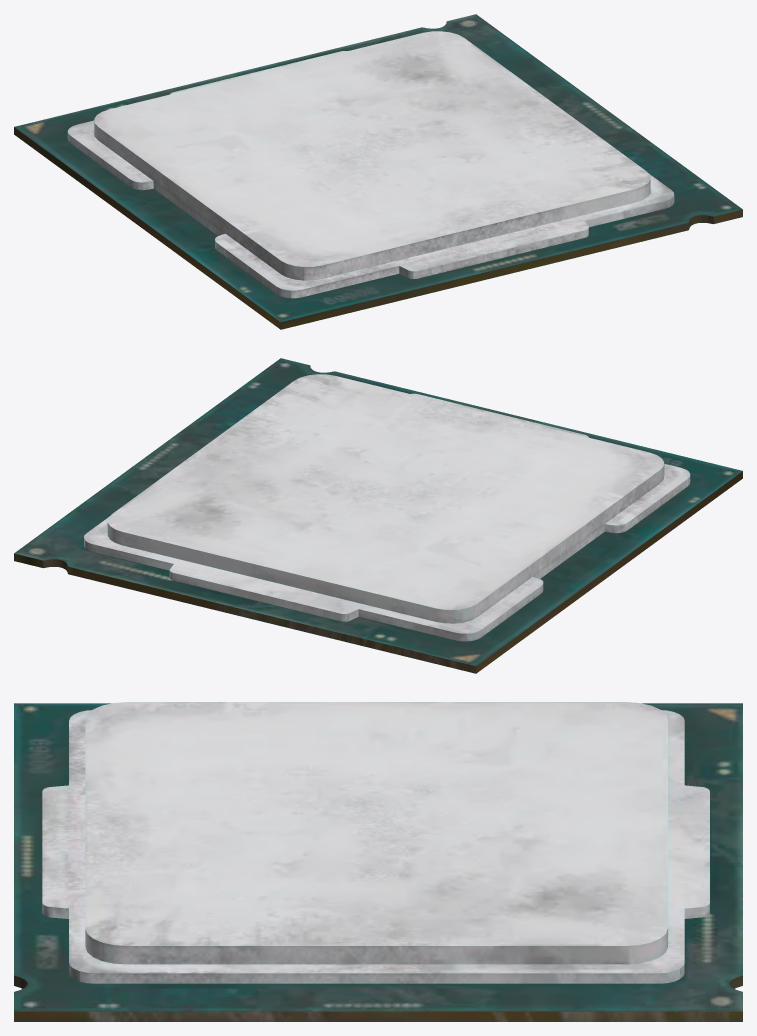
File: cpu-intel-simples.glb
The picture shows the model from 3 angles, top to bottom: view 1: azimuth 30°, elevation 25°; view 2: azimuth 150°, elevation 25°; view 3: azimuth 270°, elevation 25°; orthographic projection. The views are drawn at different scales.
Visible parts, largest first — view 1: Intel CPU - TT_Intel CPU_0; view 2: Intel CPU - TT_Intel CPU_0; view 3: Intel CPU - TT_Intel CPU_0.
Part boxes in pixels (left/top/right/bottom): Intel CPU - TT_Intel CPU_0: left=14, top=14, right=742, bottom=329; Intel CPU - TT_Intel CPU_0: left=14, top=358, right=742, bottom=673; Intel CPU - TT_Intel CPU_0: left=14, top=702, right=742, bottom=1021.
Size of the model in its own units: 0.0376 by 0.00224 by 0.0376.
Materials: 1 (1 with a texture image).
